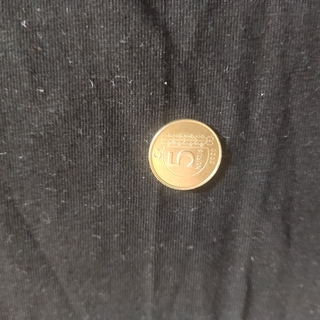5KURUS: (145, 117, 224, 192)
